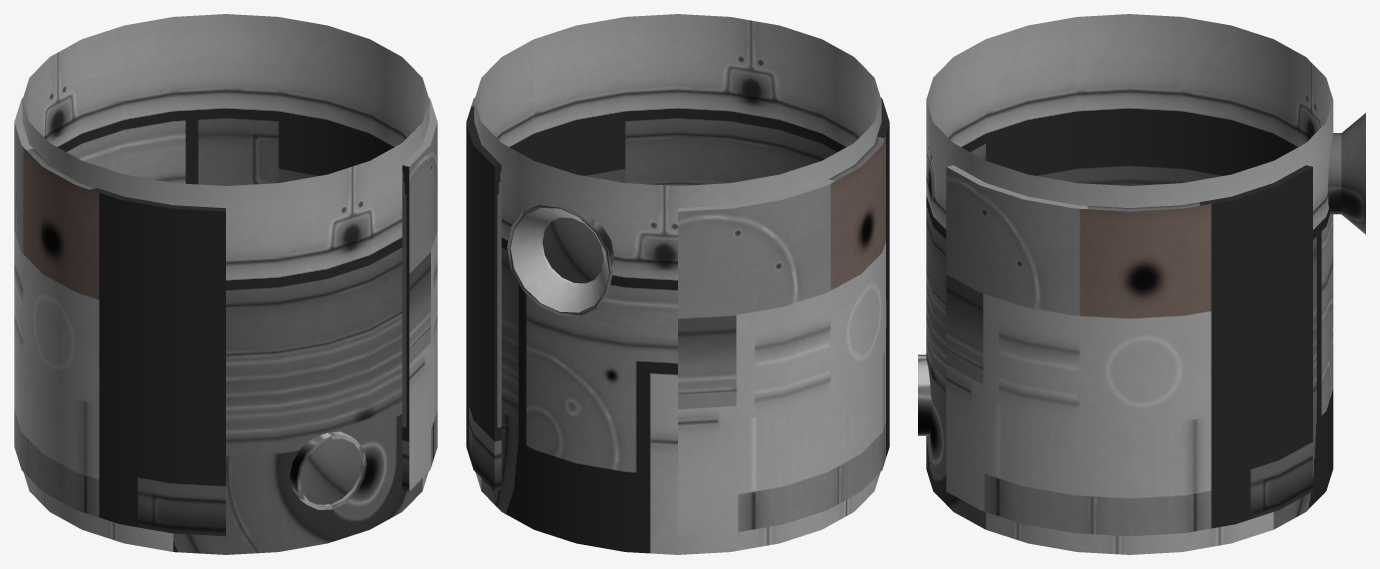
The model's file is tantares_orbital_module_s1_4.obj.
3 views of the same model, side by side, from view 1: azimuth 30°, elevation 25°; view 2: azimuth 150°, elevation 25°; view 3: azimuth 270°, elevation 25° (orthographic).
Parts seen in each view (by area): view 1: mesh2, windows2; view 2: mesh2, windows2; view 3: mesh2.
Boxes of the visible parts, bbox=[...] form: mesh2: bbox=[14, 14, 437, 554]; windows2: bbox=[300, 439, 361, 504]; mesh2: bbox=[466, 14, 889, 554]; windows2: bbox=[542, 217, 603, 283]; mesh2: bbox=[918, 14, 1365, 554].
Bounding box in the file's own units: 1.3 × 1.25 × 1.38.
